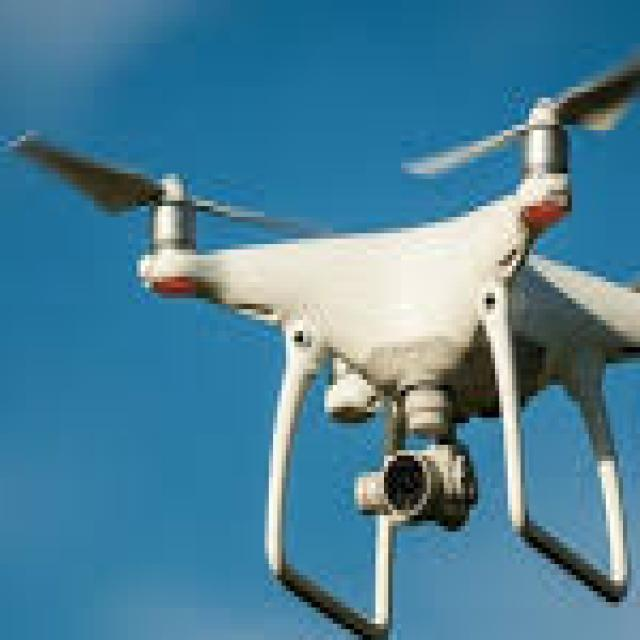drone: (8, 5, 640, 607)
